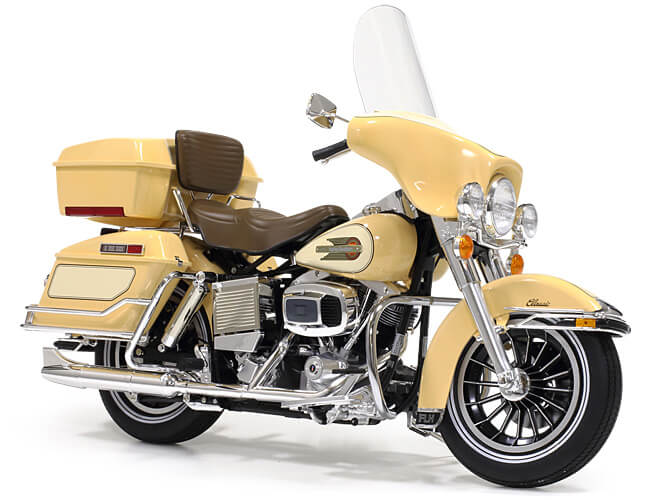motorcycle: (32, 95, 627, 485)
